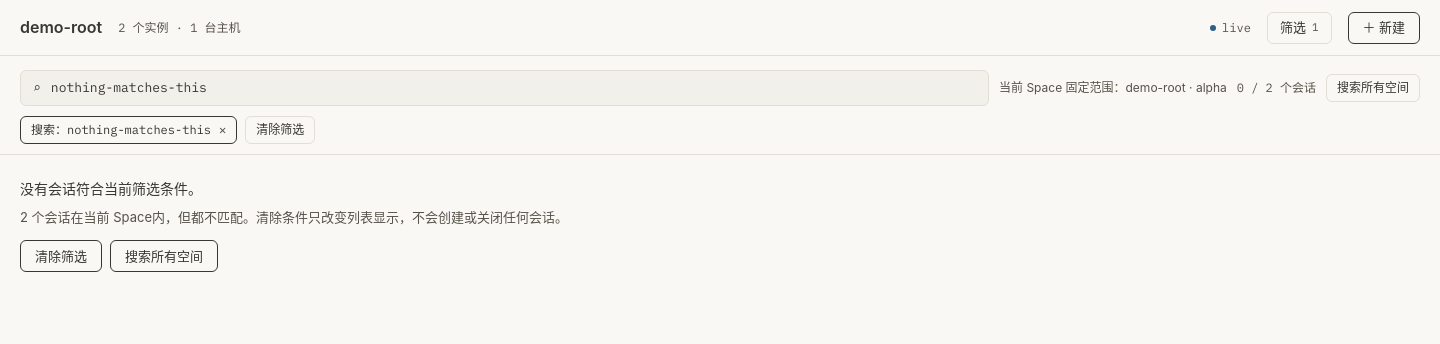
it: SessionList empty states › restores the list when the conditions are cleared, without touching any session
This screenshot has width=1440, height=344.
Click the button with test id "session-no-matches-clear" at (61, 256), box [20,240,102,272]
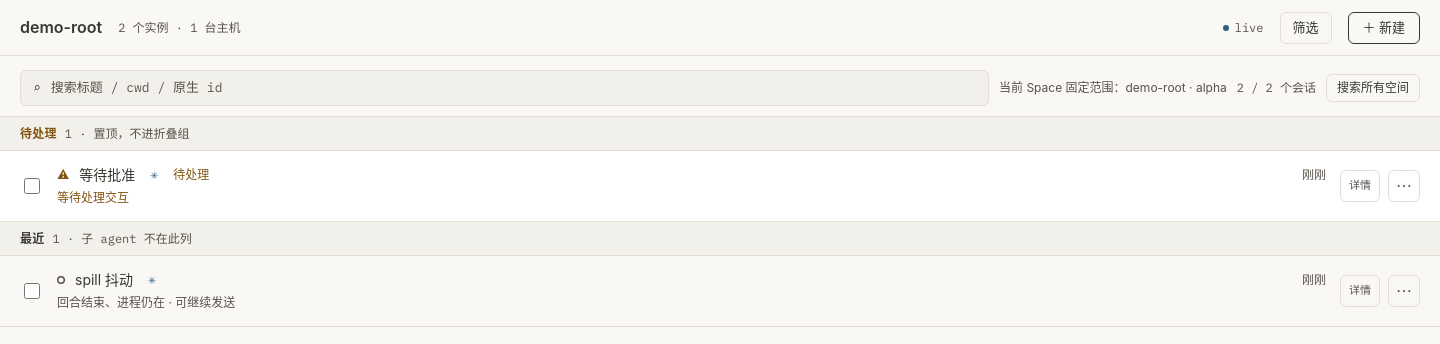
Result: the element with test id "session-no-matches" is gone
Result: the number of elements with test id "board-card" is 2 at [0,151,1439,222]; [0,256,1439,327]
